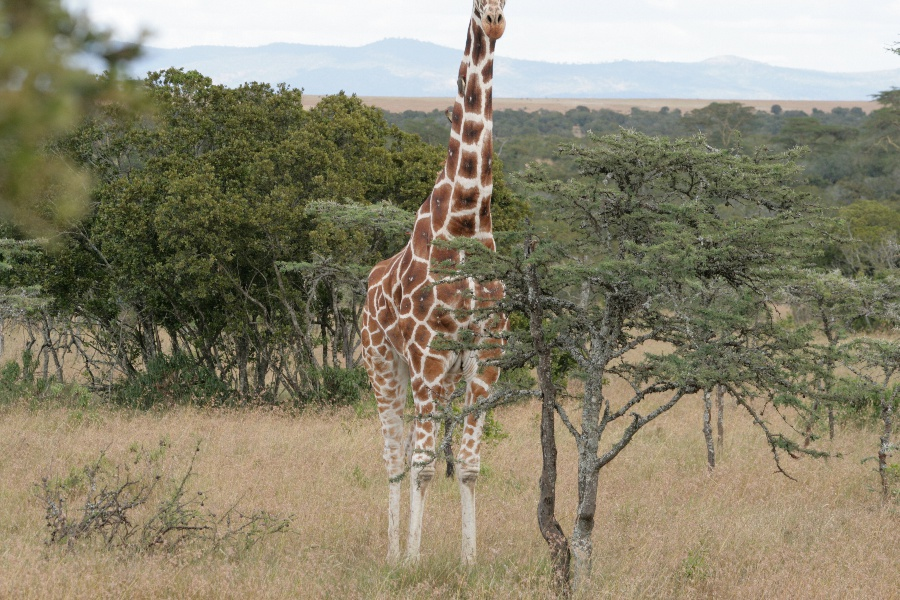giraffe: (346, 0, 530, 583)
